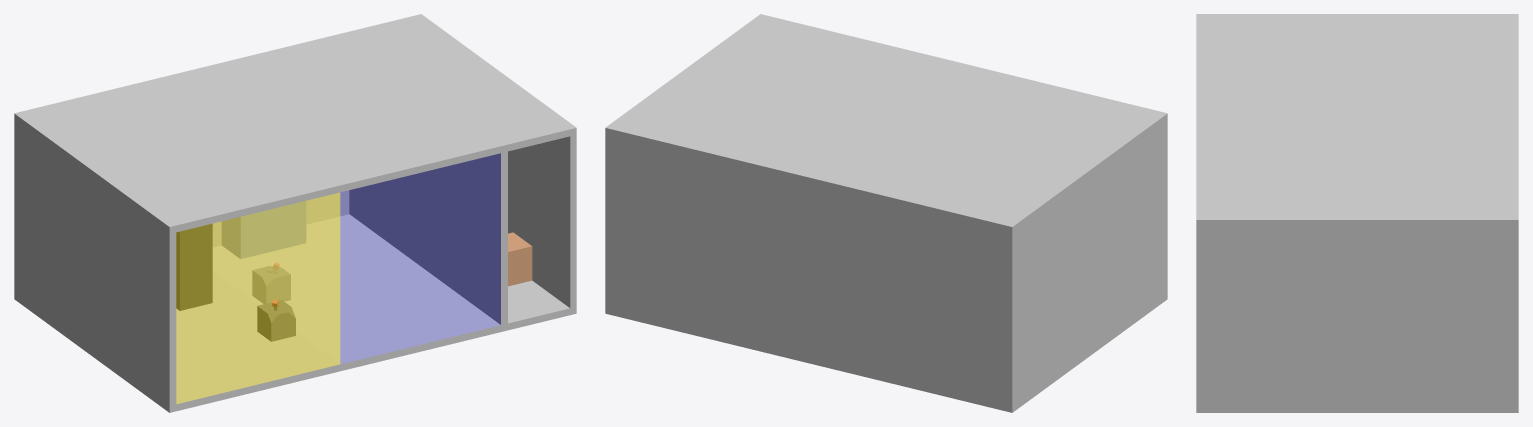
Rendered from level_1.gltf.
3 renders of one model, left to right at view 1: azimuth 30°, elevation 25°; view 2: azimuth 150°, elevation 25°; view 3: azimuth 270°, elevation 25°, orthographic. The views are drawn at different scales.
Parts seen in each view (by area): view 1: room, 2_freeze, 1_pc, 1_contramotor, 2_contramotor, 3_cube; view 2: room; view 3: room.
Part boxes in pixels (x1,y1,x2,y2): room: [14, 14, 576, 412]; 2_freeze: [222, 201, 305, 258]; 1_pc: [176, 224, 212, 310]; 1_contramotor: [257, 300, 295, 341]; 2_contramotor: [252, 266, 290, 303]; 3_cube: [508, 232, 532, 286]; room: [605, 14, 1167, 412]; room: [1196, 14, 1518, 412].
Size of what is drawn, in the model's own units: 12.4 by 5.41 by 8.2.
